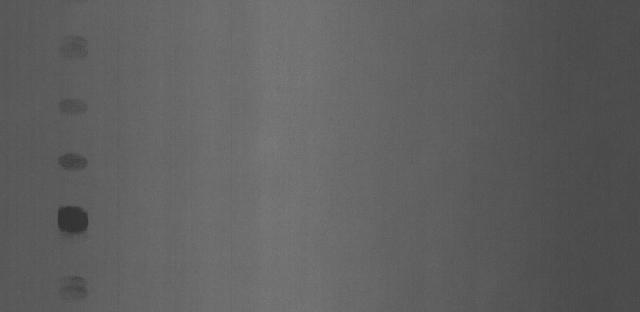oil_spot: (51, 203, 93, 235), (57, 273, 90, 309), (51, 86, 87, 115), (54, 153, 88, 172), (59, 34, 87, 57)
